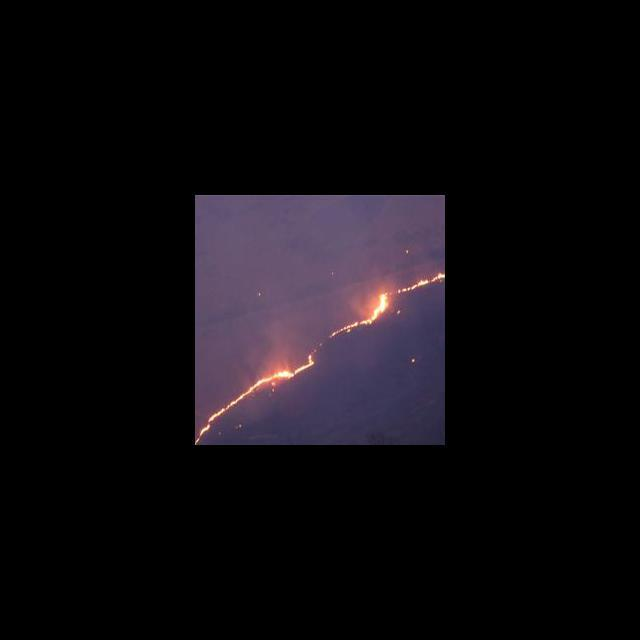Fire: (196, 272, 445, 445)
